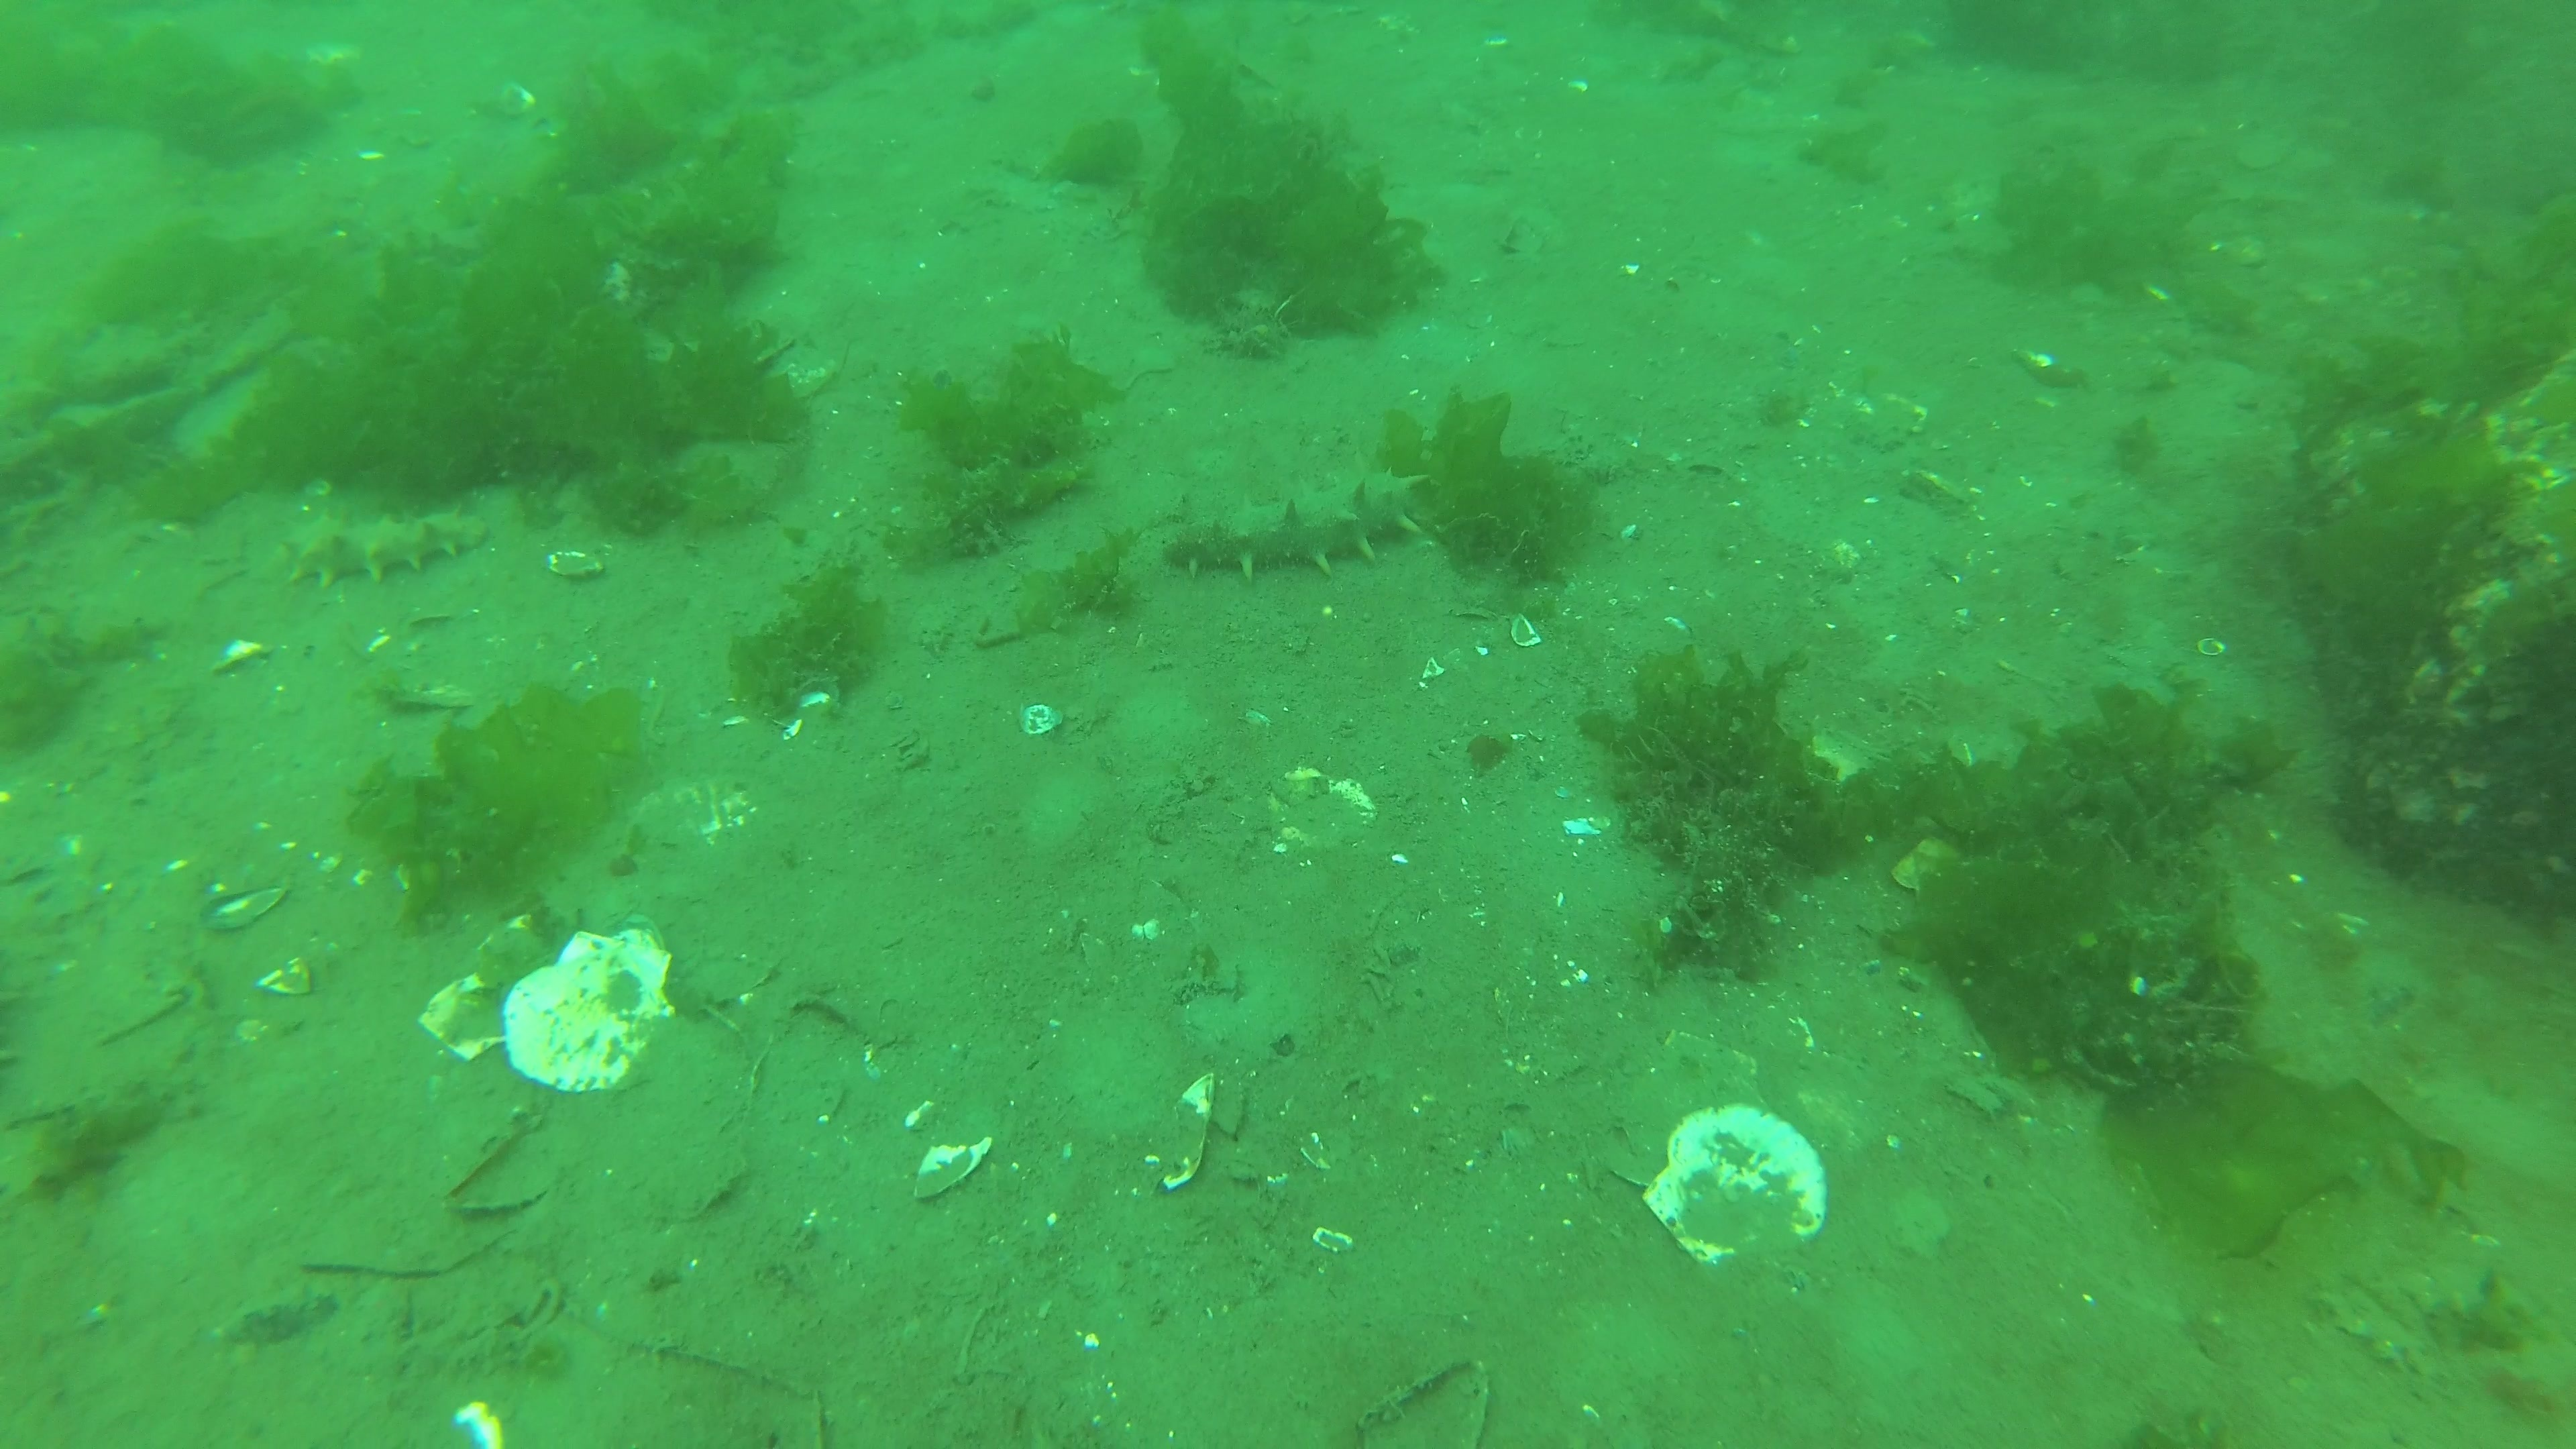holothurian: (1161, 472, 1430, 580), (271, 506, 494, 591)
scallop: (1640, 1085, 1849, 1279), (469, 918, 678, 1111)
